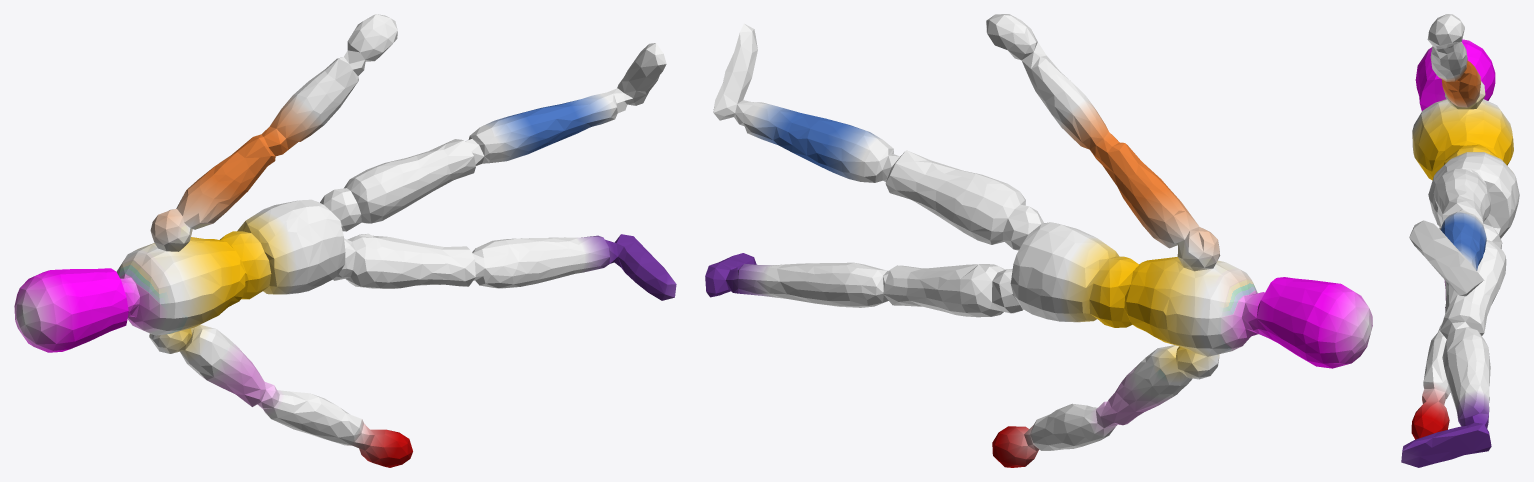
The model's file is target_humantostick.obj.
3 renders of one model, left to right at view 1: azimuth 30°, elevation 25°; view 2: azimuth 150°, elevation 25°; view 3: azimuth 270°, elevation 25°, orthographic. The views are drawn at different scales.
Bounding box in the file's own units: 1.75 × 1.19 × 0.2974.
Materials: 1 (1 with a texture image).
